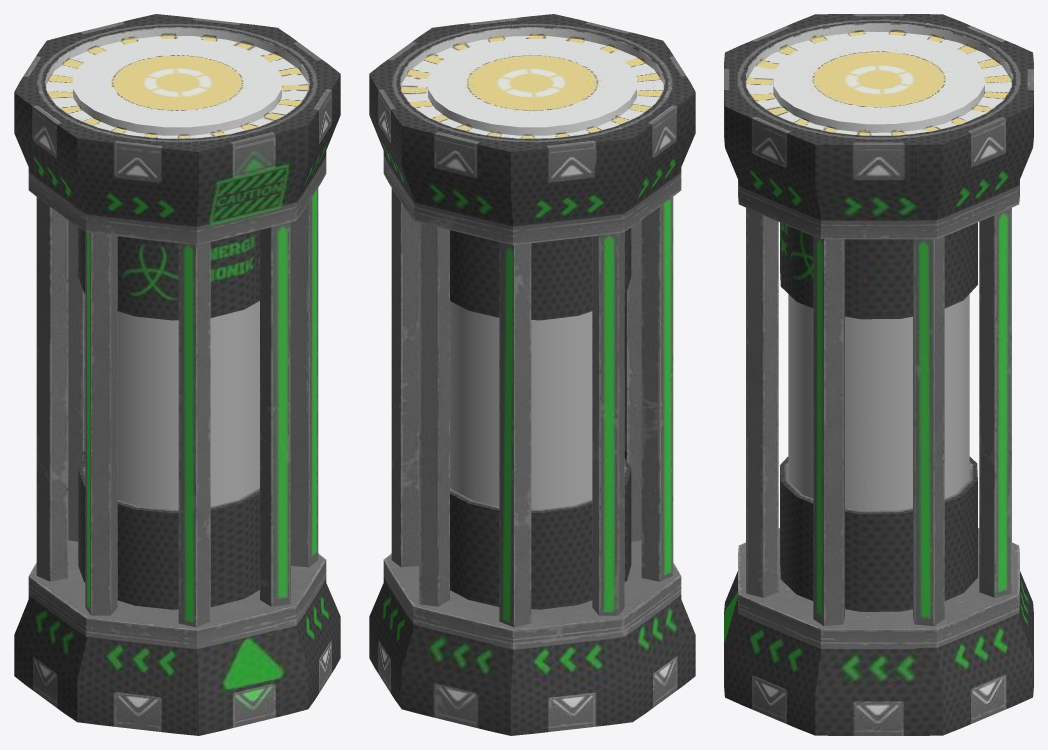
The model's file is paddle.fbx.
The picture shows the model from 3 angles, left to right: view 1: azimuth 30°, elevation 25°; view 2: azimuth 150°, elevation 25°; view 3: azimuth 270°, elevation 25°; orthographic projection.
Visible parts, largest first — view 1: paddle_LOD00; view 2: paddle_LOD00; view 3: paddle_LOD00.
Boxes of the visible parts, x1,y1,x2,y2 form: paddle_LOD00: (14,14,340,735); paddle_LOD00: (369,14,695,735); paddle_LOD00: (724,14,1033,735).
Size of what is drawn, in the model's own units: 2.19 by 4.6 by 2.19.
